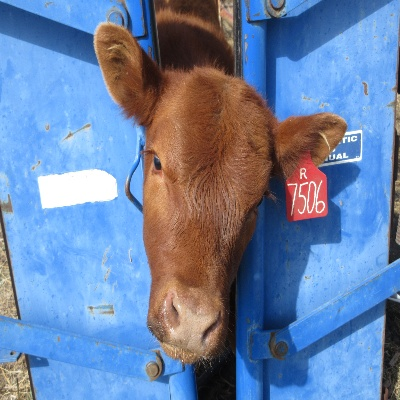fidget_spinner: (155, 285, 233, 351)
